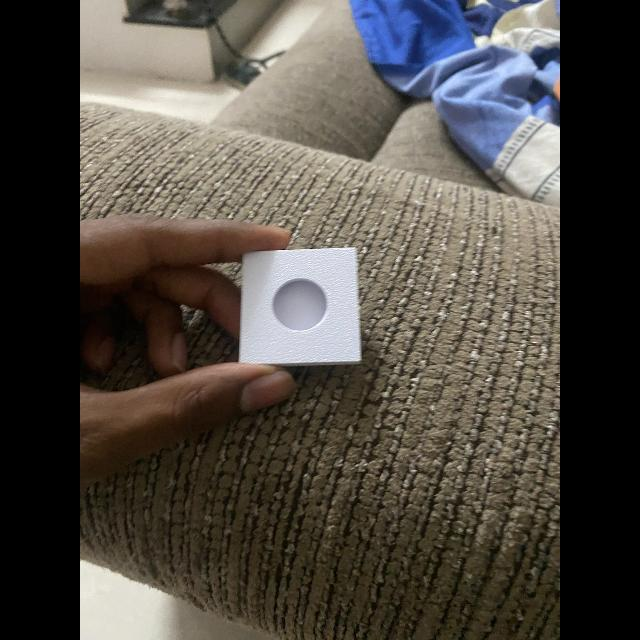RASPBERY PI CAM ENCLOSURE: (239, 248, 361, 366)
